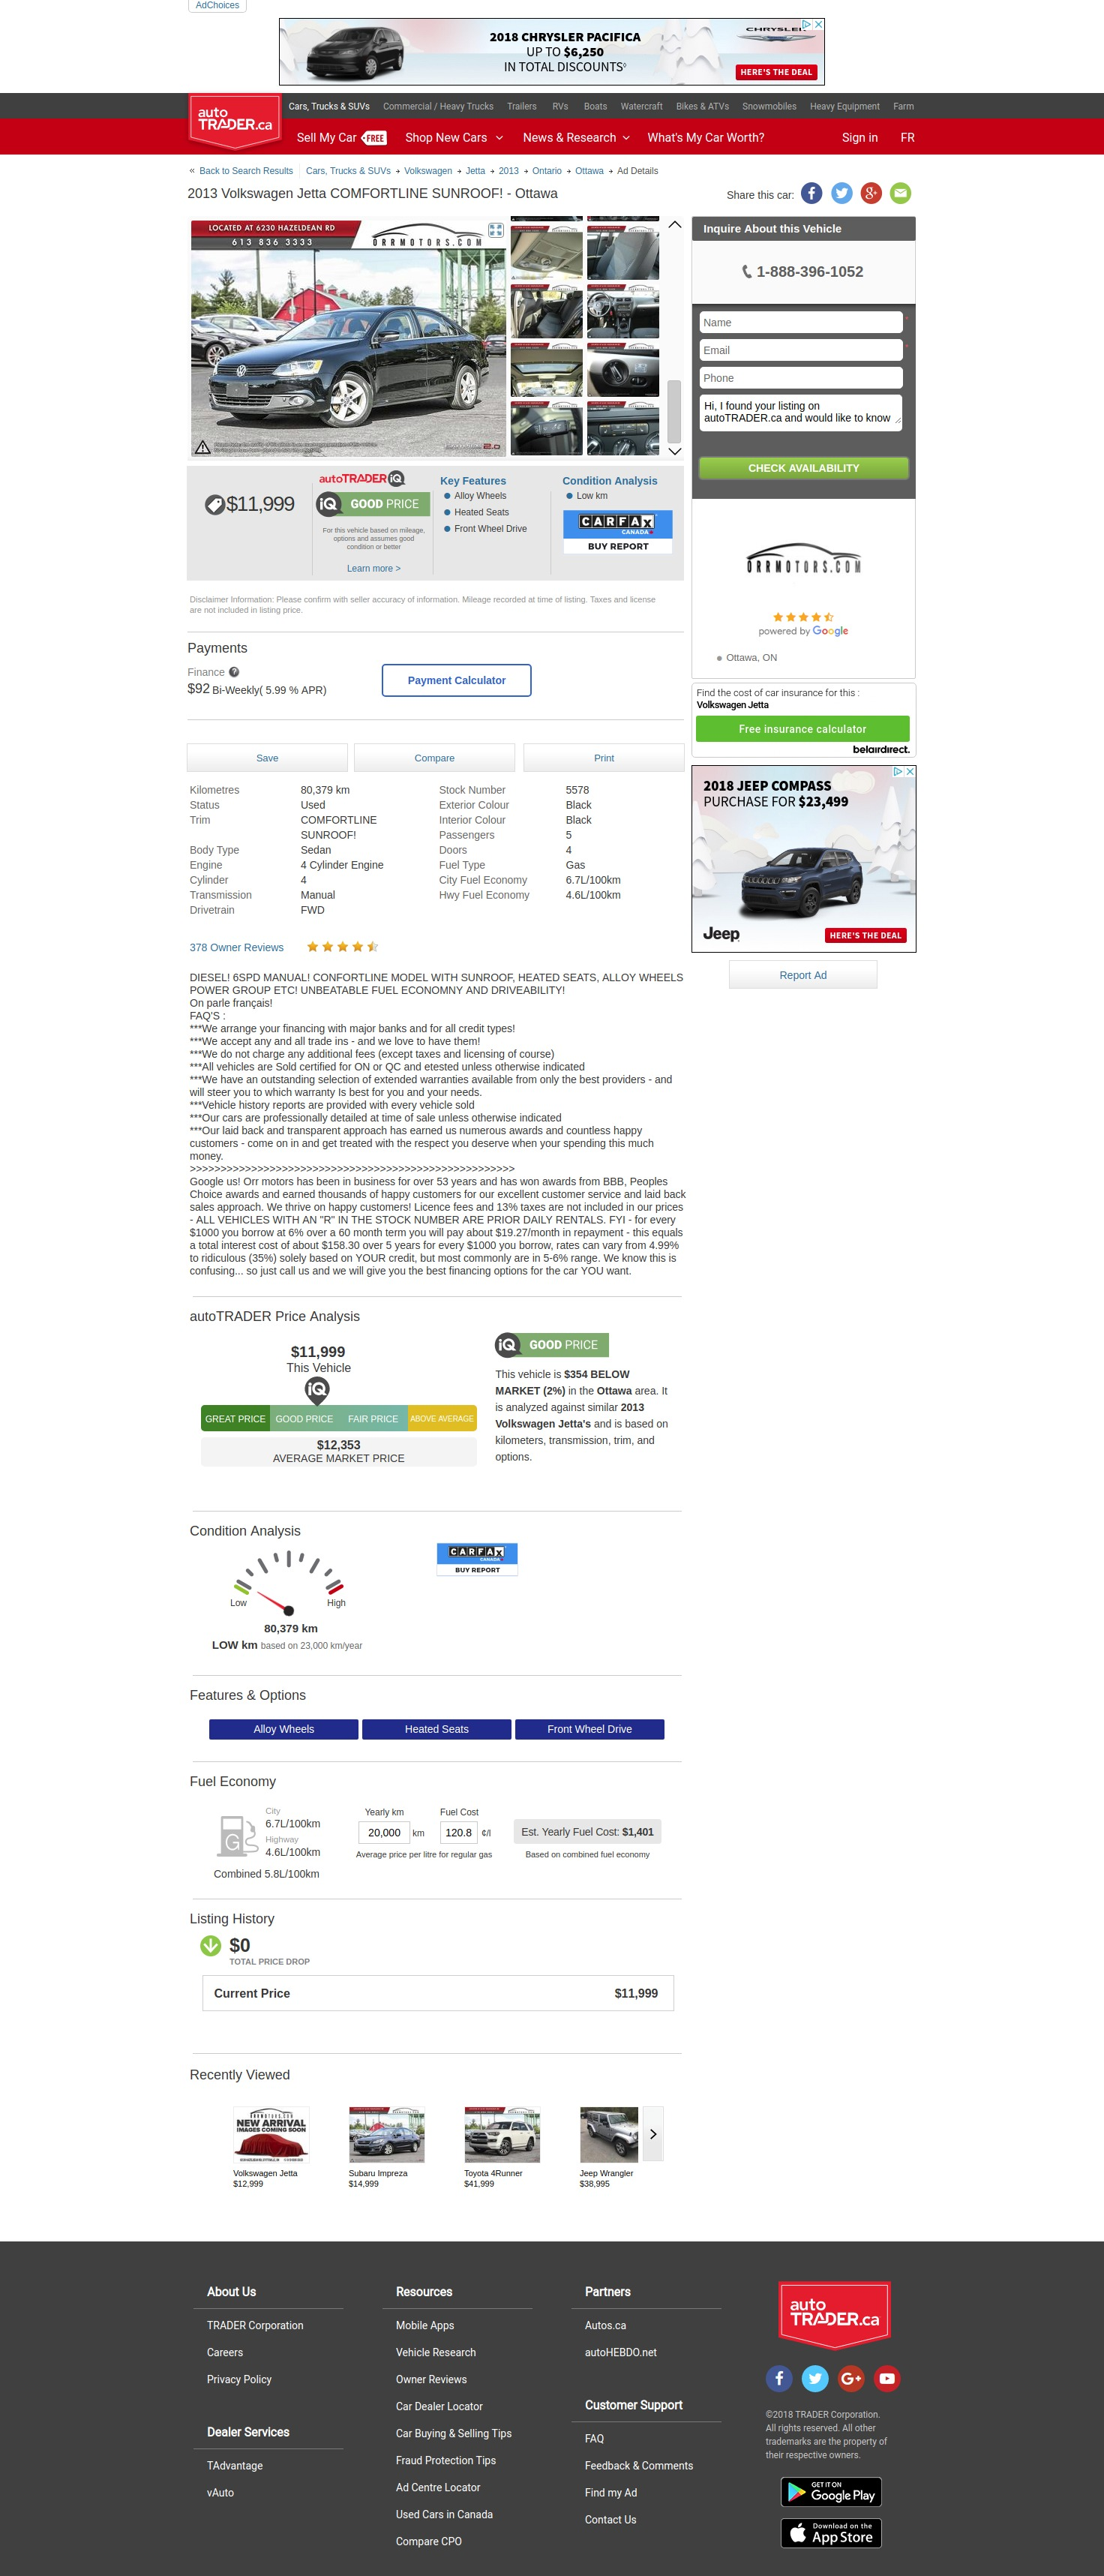car: (669, 447, 682, 460)
